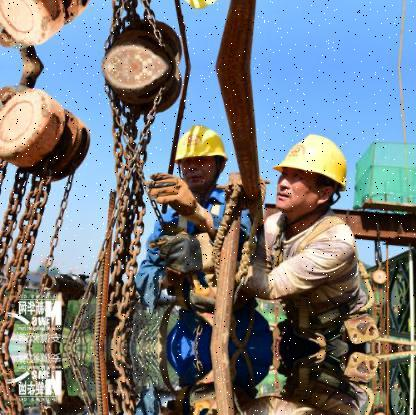helmet: (268, 123, 356, 222), (171, 117, 233, 197), (170, 0, 233, 16)
